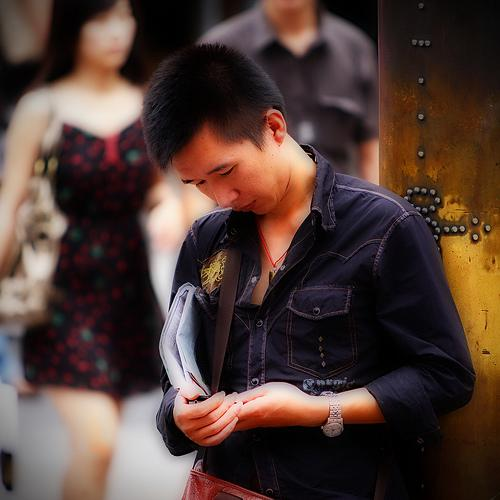person: (143, 42, 477, 500)
